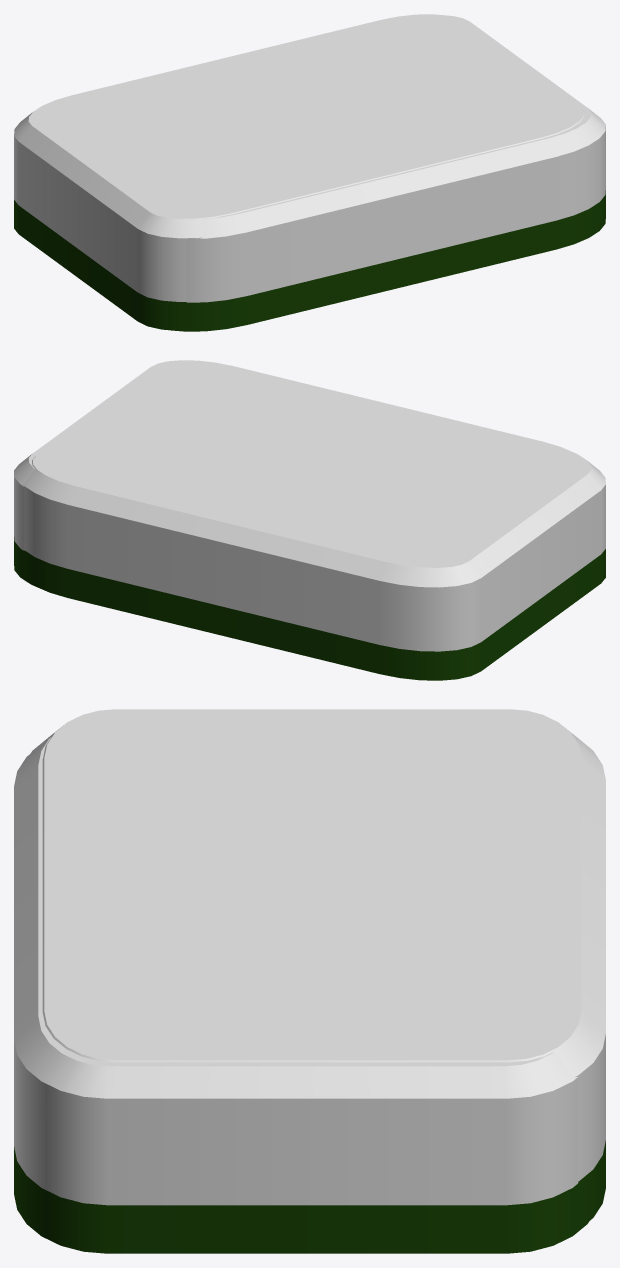
Rendered from mahjong-pieces1 (2).fbx.
The picture shows the model from 3 angles, top to bottom: view 1: azimuth 30°, elevation 25°; view 2: azimuth 150°, elevation 25°; view 3: azimuth 270°, elevation 25°; orthographic projection. The views are drawn at different scales.
Visible parts, largest first — view 1: Circle_8, Bamboo_1, West, East, Circle_3, Circle_1, Charcter_3, Charcter_1, Bamboo_3; view 2: Circle_8, Charcter_2; view 3: Circle_8, East, Green, North, Red, White, Charcter_3, Bamboo_1, Charcter_2, Charcter_1, Charcter_5_red, West (+5 smaller).
Boxes of the visible parts, box(x1,y1,x2,y2) form: Circle_8: box(14, 14, 584, 330); Bamboo_1: box(204, 16, 586, 331); West: box(244, 127, 603, 313); East: box(241, 17, 605, 296); Circle_3: box(179, 20, 555, 331); Circle_1: box(171, 127, 573, 330); Charcter_3: box(214, 70, 602, 328); Charcter_1: box(231, 20, 603, 309); Bamboo_3: box(198, 36, 591, 331); Circle_8: box(23, 362, 605, 680); Charcter_2: box(16, 361, 406, 580); Circle_8: box(31, 709, 605, 1229); East: box(14, 756, 587, 1253); Green: box(93, 1066, 522, 1253); North: box(38, 786, 538, 1253); Red: box(39, 813, 521, 1253); White: box(72, 1062, 506, 1253); Charcter_3: box(14, 739, 525, 1246); Bamboo_1: box(14, 743, 553, 1065); Charcter_2: box(48, 737, 579, 1241); Charcter_1: box(14, 776, 561, 1251); Charcter_5_red: box(36, 739, 529, 1252); West: box(14, 779, 470, 1253).
Bounding box in the file's own units: 182 × 40.33 × 121.
